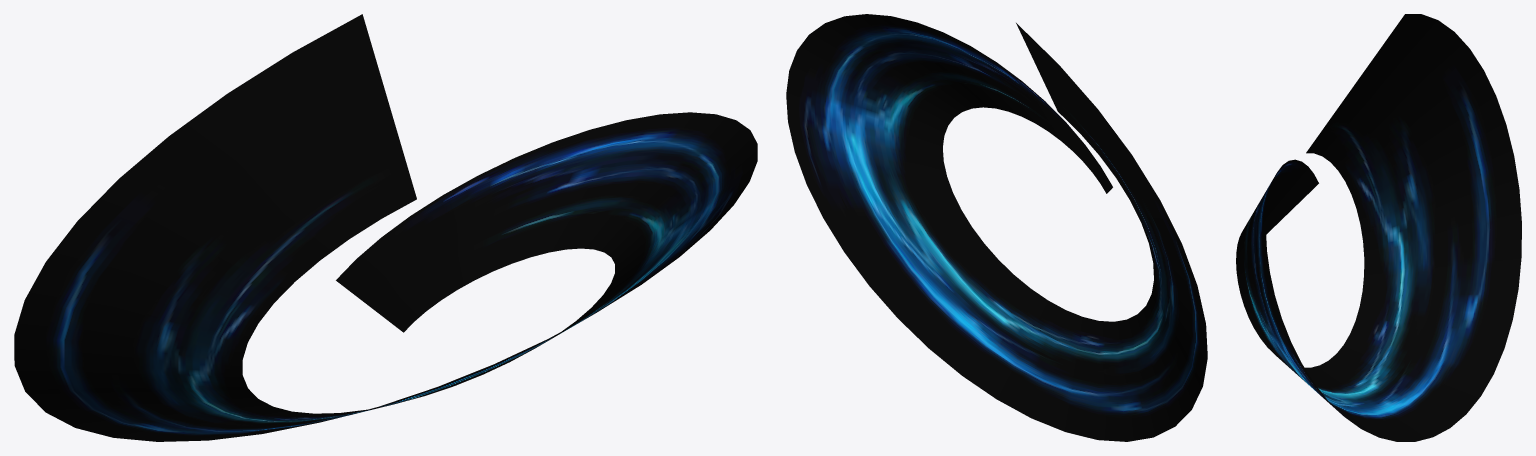
3 renders of one model, left to right at view 1: azimuth 30°, elevation 25°; view 2: azimuth 150°, elevation 25°; view 3: azimuth 270°, elevation 25°, orthographic. The views are drawn at different scales.
Visible parts, largest first — view 1: Helix01; view 2: Helix01; view 3: Helix01.
Boxes of the visible parts, <box> form: Helix01: <box>14,14,757,441</box>; Helix01: <box>786,14,1207,441</box>; Helix01: <box>1236,14,1521,441</box>.
Size of the model in its own units: 23.42 by 15.58 by 9.86.
Materials: 1 (1 with a texture image).
